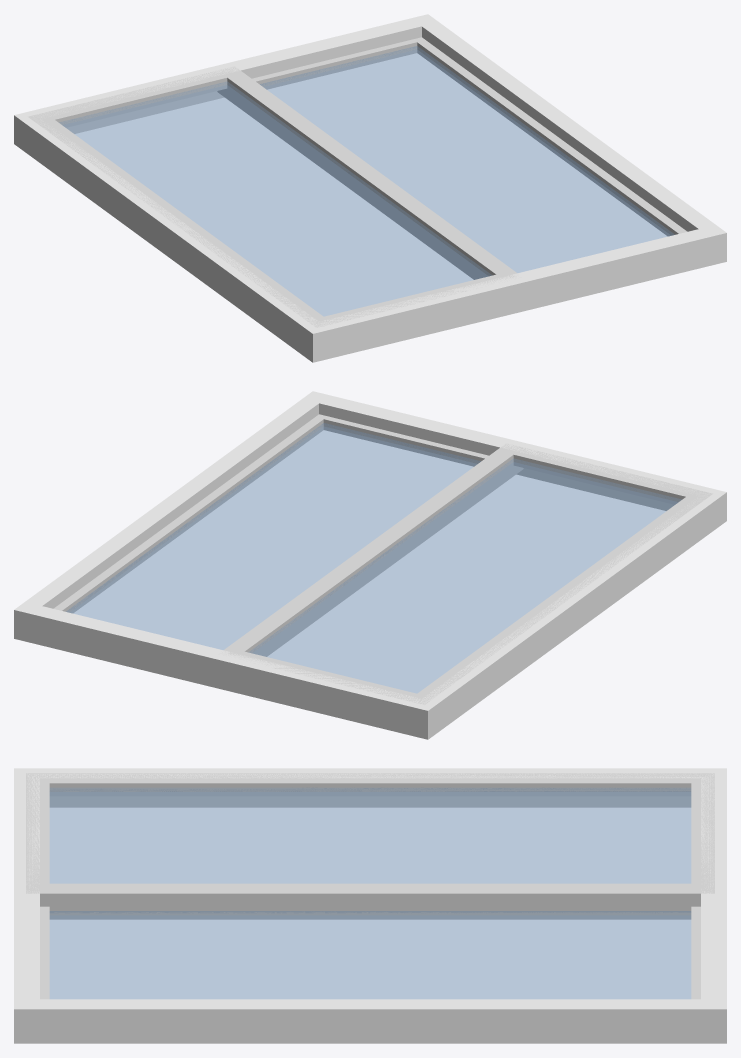
3 renders of one model, top to bottom at view 1: azimuth 30°, elevation 25°; view 2: azimuth 150°, elevation 25°; view 3: azimuth 270°, elevation 25°, orthographic. The views are drawn at different scales.
Parts seen in each view (by area): view 1: 0_1_3_0_3_3_0_0; view 2: 0_1_3_0_3_3_0_0; view 3: 0_1_3_0_3_3_0_0.
Boxes of the visible parts, x1,y1,x2,y2 form: 0_1_3_0_3_3_0_0: [14, 14, 726, 362]; 0_1_3_0_3_3_0_0: [14, 391, 726, 739]; 0_1_3_0_3_3_0_0: [14, 768, 726, 1043].
Size of the model in its own units: 1.2 by 0.08 by 1.5.
